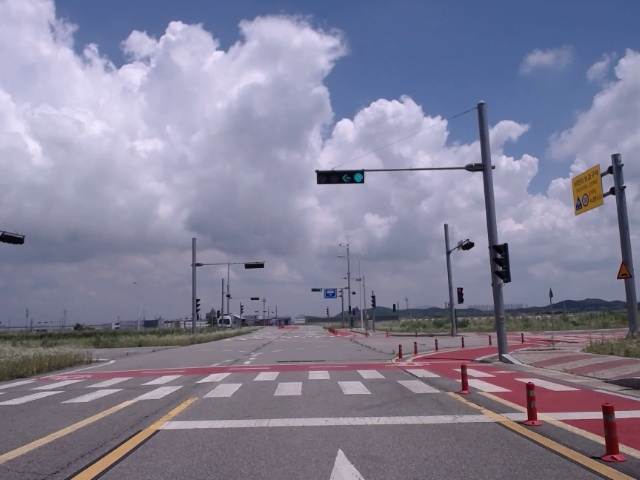all_green_4: (318, 170, 368, 183)
